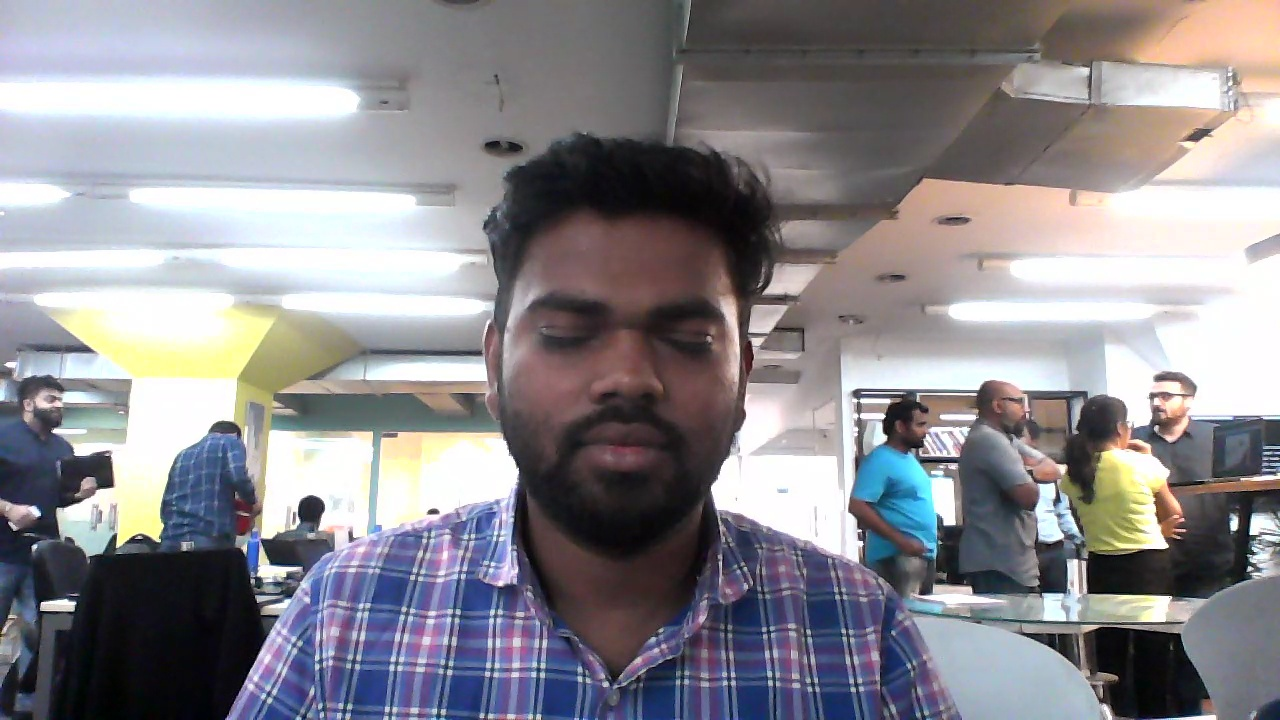closed: (481, 130, 767, 553)
